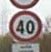limite 40: (8, 9, 42, 43)
